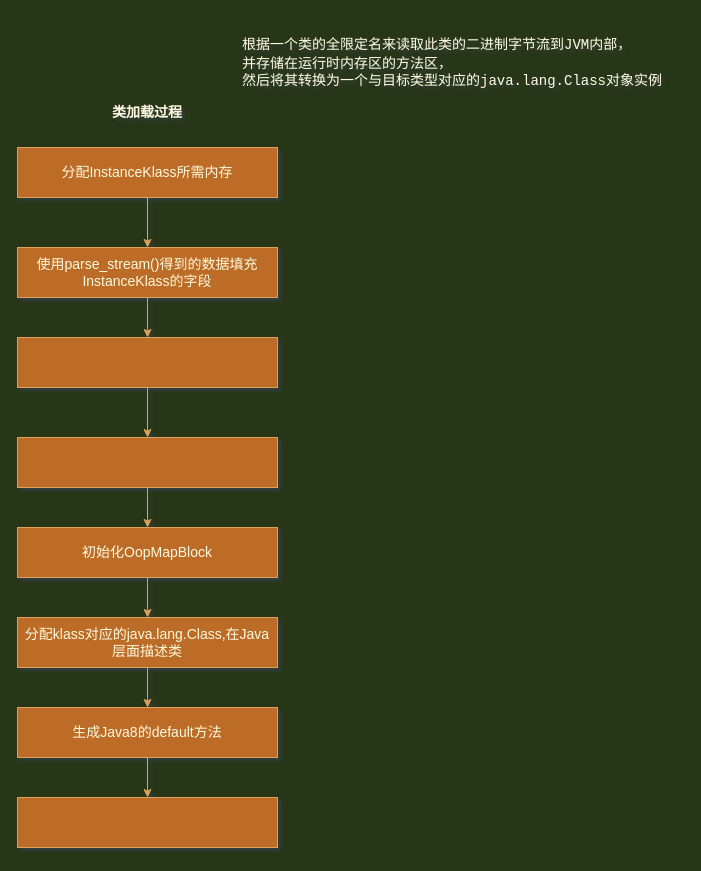
Image size: 701x871. Some labels were removed from this diagram. Here are the shapes that lost their labels. From the top down, the centre of each, then its label:
At [147,362]: "如果引入了miranda方法，则设置对应的flag".
At [147,462]: "初始化itable".
At [147,822]: "得到完整的InstanceKlass".
